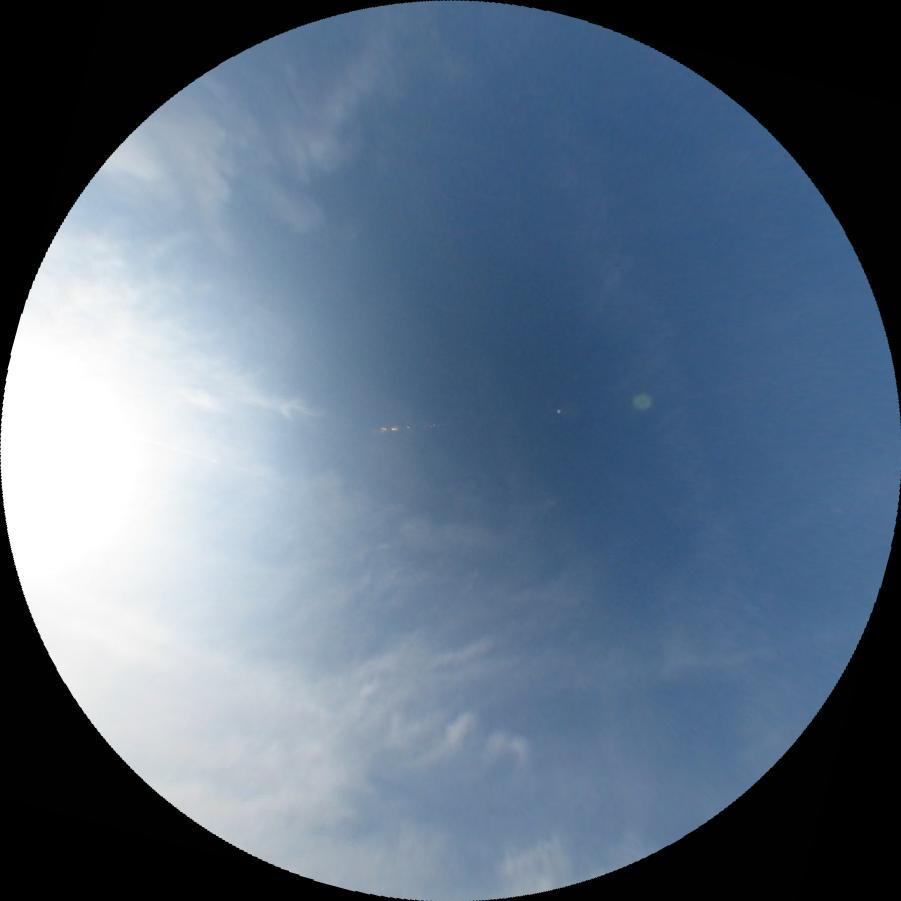contrail veryold: (525, 173, 831, 779)
parasite: (151, 436, 270, 479)
sun: (0, 319, 161, 647)
